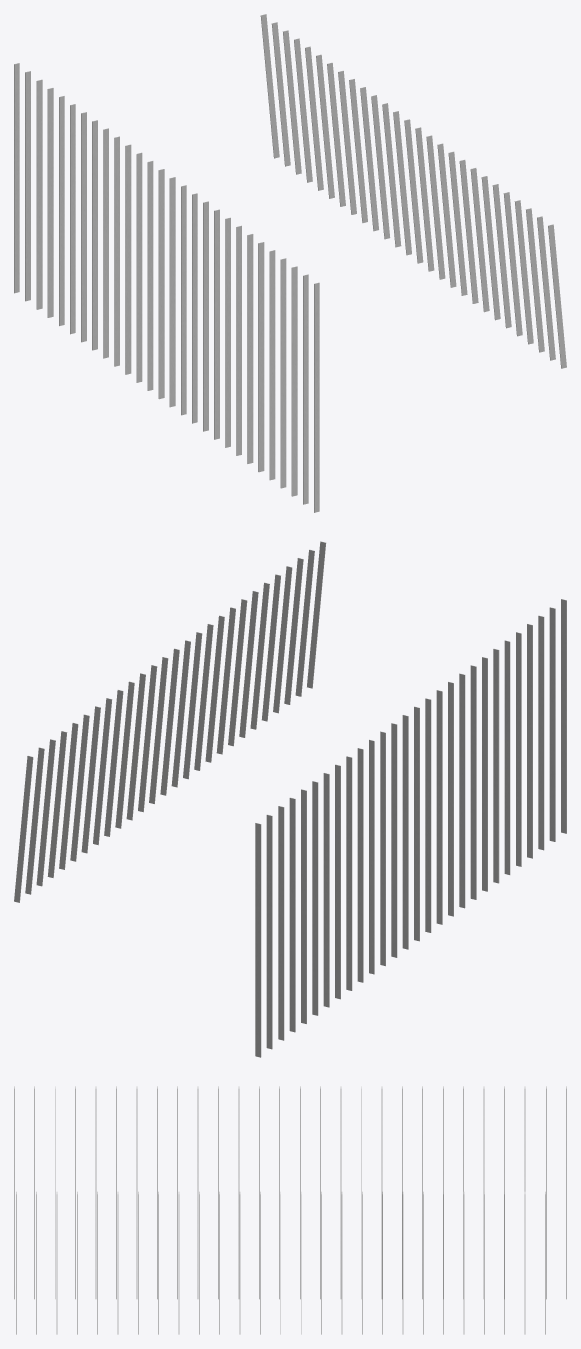
File: Louvers Vertical.FBX
3 views of the same model, one above another, from view 1: azimuth 30°, elevation 25°; view 2: azimuth 150°, elevation 25°; view 3: azimuth 270°, elevation 25° (orthographic). The views are drawn at different scales.
Parts seen in each view (by area): view 1: Box216, Box208, Box219, Box228, Box230, Box209, Box217, Box218, Box220, Box229, Box231, Box227 (+43 smaller); view 2: Box227, Box215, Box222, Box225, Box232, Box207, Box208, Box209, Box211, Box212, Box218, Box224 (+43 smaller); view 3: Box215, Box217, Box222, Box224, Box227, Box229.
Part boxes in pixels (box(x1,y1,x2,y2)): Box216: box(125, 144, 131, 374); Box208: box(36, 79, 42, 309); Box219: box(158, 169, 164, 399); Box228: box(258, 242, 264, 472); Box230: box(280, 258, 286, 488); Box209: box(47, 88, 53, 317); Box217: box(136, 152, 142, 382); Box218: box(147, 161, 153, 390); Box220: box(169, 177, 175, 407); Box229: box(269, 250, 275, 480); Box231: box(291, 266, 297, 496); Box227: box(247, 234, 253, 463); Box227: box(493, 648, 499, 883); Box215: box(357, 748, 363, 982); Box222: box(436, 690, 442, 924); Box225: box(470, 665, 476, 899); Box232: box(549, 607, 555, 841); Box207: box(266, 814, 272, 1049); Box208: box(278, 806, 284, 1040); Box209: box(289, 797, 295, 1032); Box211: box(312, 781, 318, 1015); Box212: box(323, 773, 329, 1007); Box218: box(391, 723, 397, 957); Box224: box(459, 673, 465, 908); Box215: box(381, 1086, 382, 1298); Box217: box(340, 1086, 341, 1298); Box222: box(238, 1086, 239, 1298); Box224: box(197, 1086, 198, 1298); Box227: box(136, 1086, 137, 1298); Box229: box(95, 1086, 96, 1298).
Size of the model in its own units: 836 by 720 by 1712.
1 material, 1 textured.
